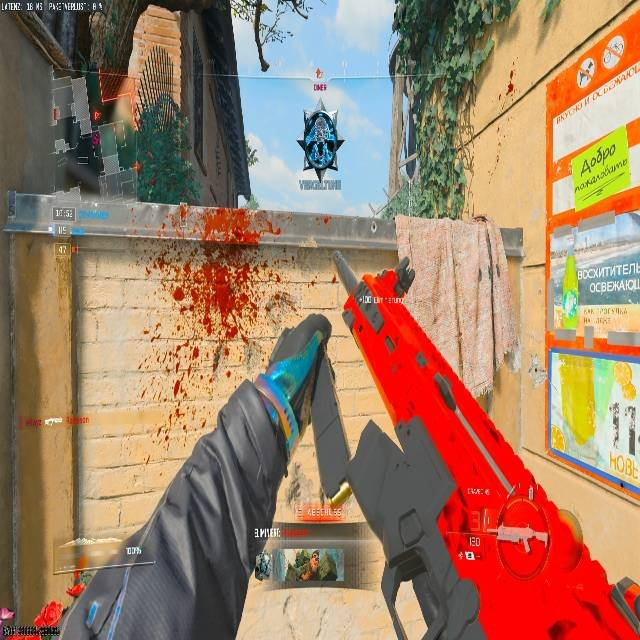player: (297, 103, 343, 183), (57, 124, 105, 195), (246, 133, 261, 166)
